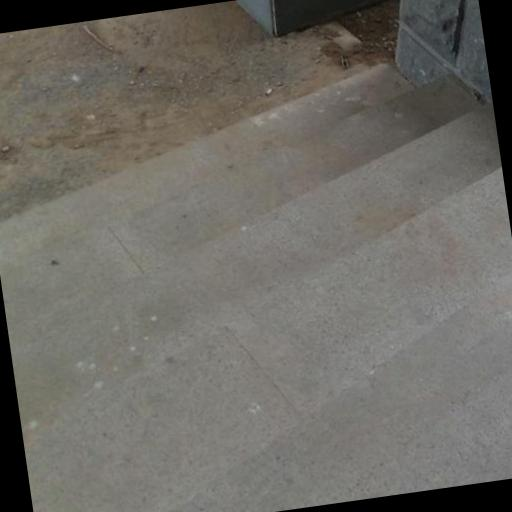stairs: (0, 67, 511, 511)
